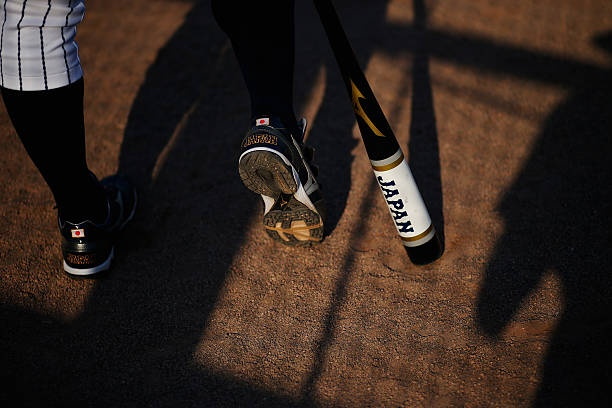bita: (317, 5, 445, 257)
